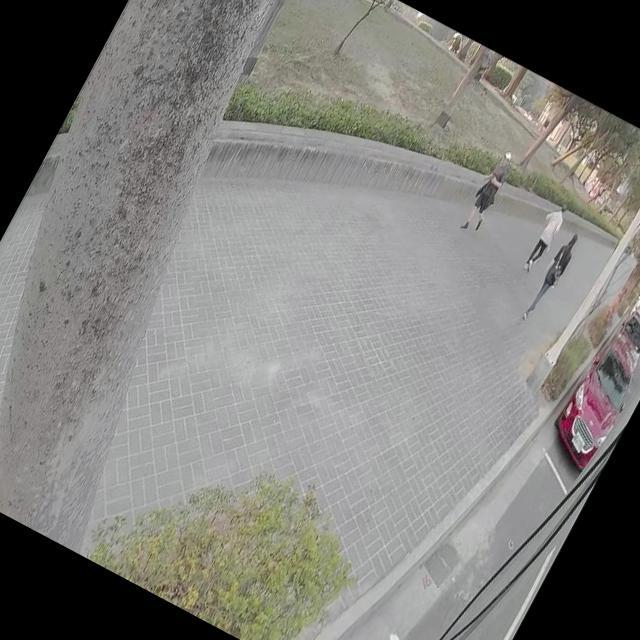person: (520, 228, 581, 323), (459, 147, 516, 234), (517, 199, 572, 279)
